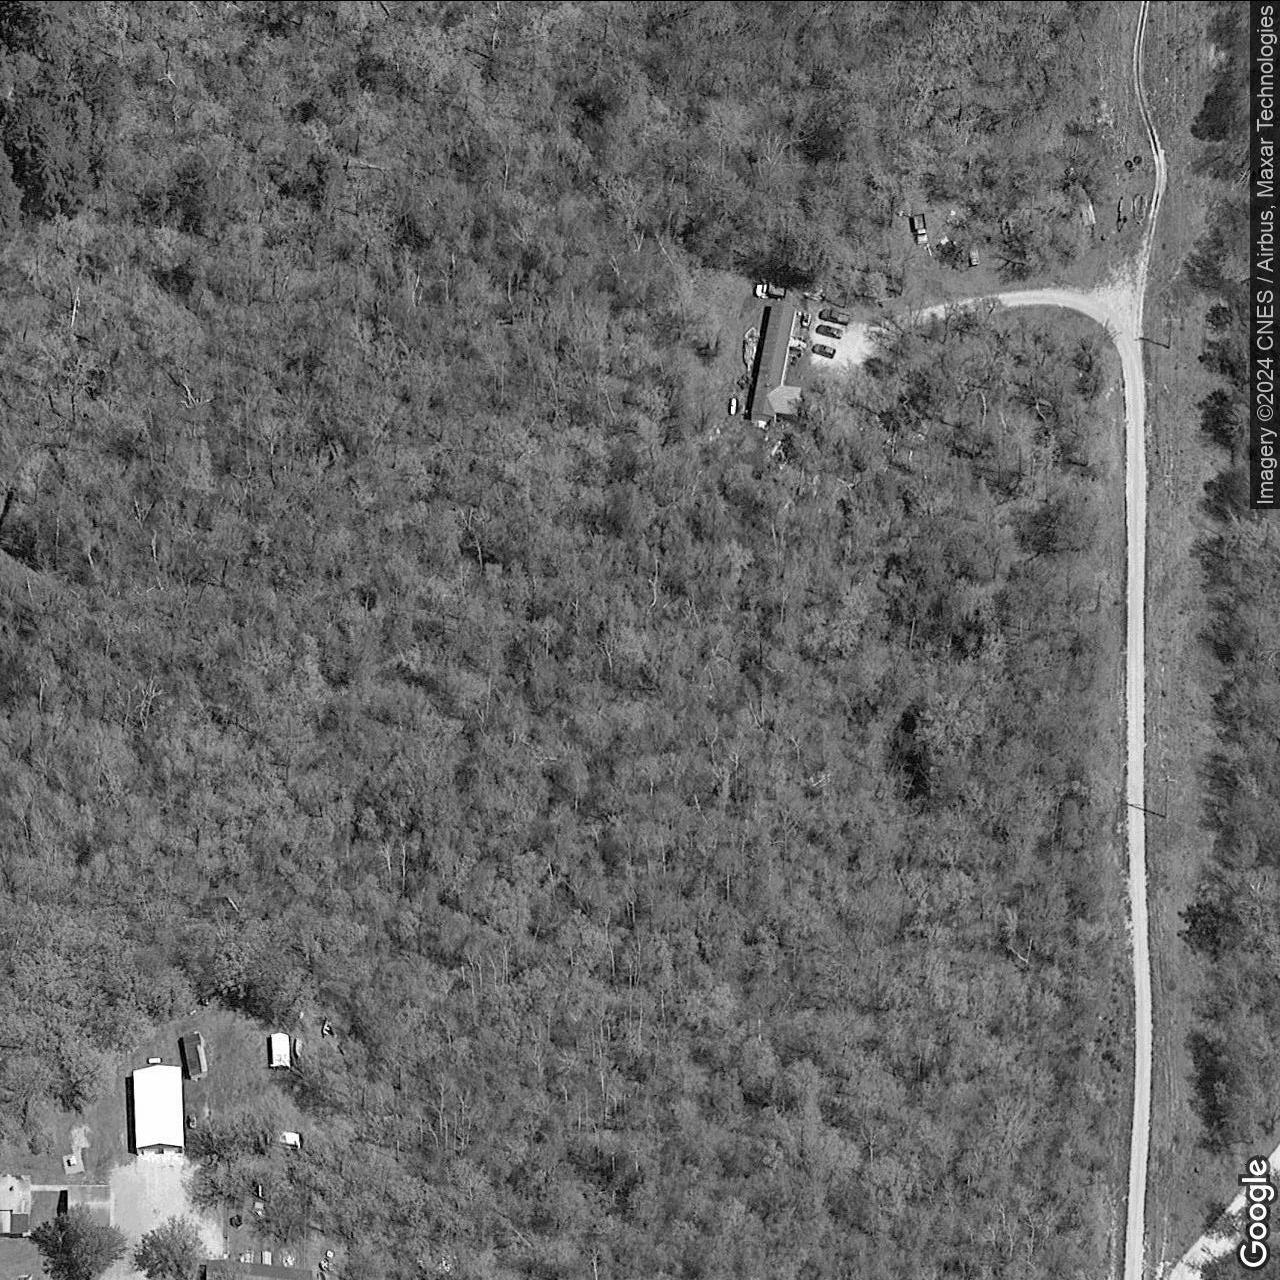Garage: (132, 1063, 184, 1155), (67, 1185, 110, 1230)
House: (750, 302, 803, 424), (1, 1173, 33, 1237)
Propane: (727, 396, 738, 417), (144, 1055, 163, 1063)
